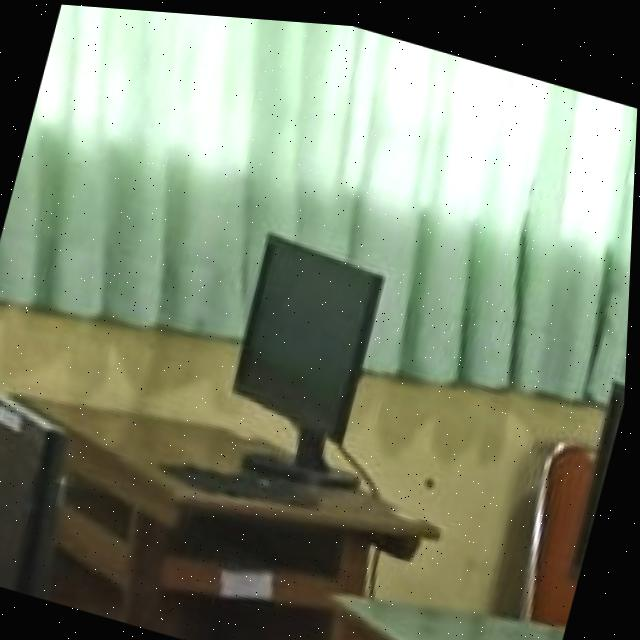offscreen: (237, 231, 385, 463)
